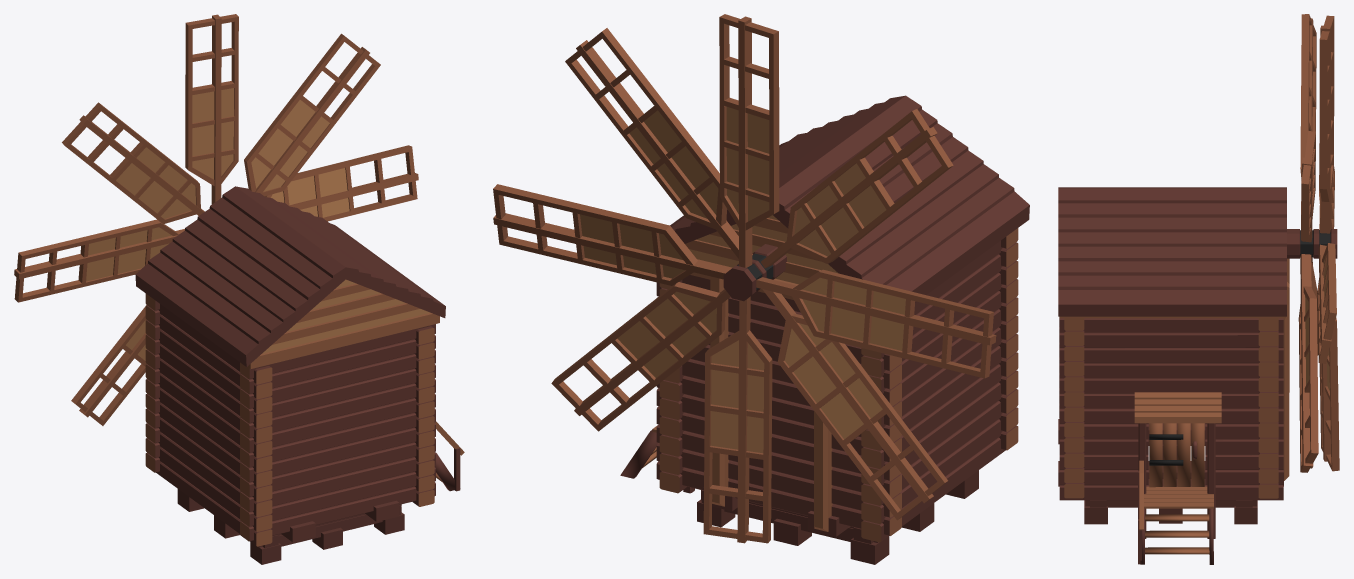
The model's file is mill_LOW_3.fbx.
3 views of the same model, side by side, from view 1: azimuth 30°, elevation 25°; view 2: azimuth 150°, elevation 25°; view 3: azimuth 270°, elevation 25° (orthographic). The views are drawn at different scales.
Visible parts, largest first — view 1: mill_3, wind_3; view 2: wind_3, mill_3; view 3: mill_3, wind_3.
Boxes of the visible parts, left/top/right/bottom form: mill_3: left=135, top=186, right=464, bottom=564; wind_3: left=14, top=14, right=418, bottom=425; wind_3: left=493, top=14, right=996, bottom=543; mill_3: left=620, top=95, right=1029, bottom=564; mill_3: left=1058, top=187, right=1289, bottom=564; wind_3: left=1287, top=14, right=1339, bottom=472.
Size of the model in its own units: 506 by 539 by 298.
